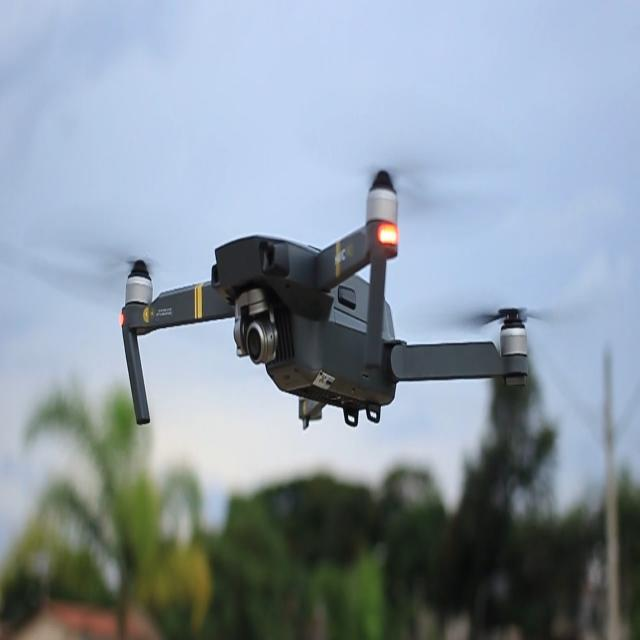Drone: (121, 171, 530, 429)
